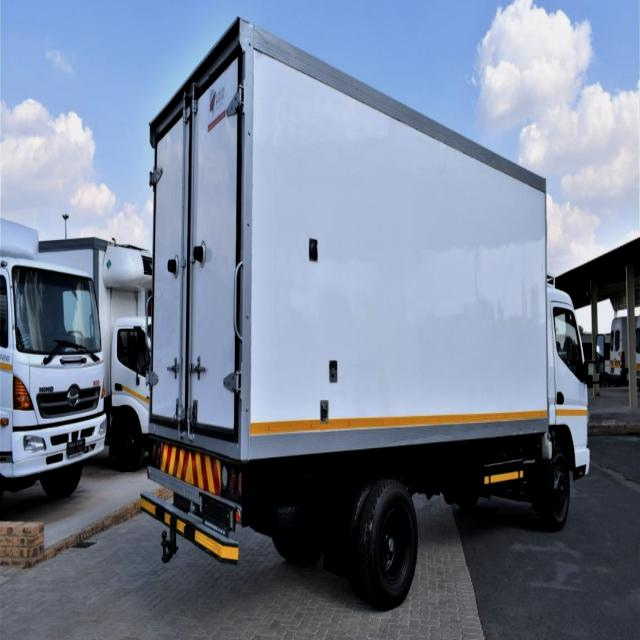truck: (140, 24, 594, 606), (1, 221, 110, 497)
